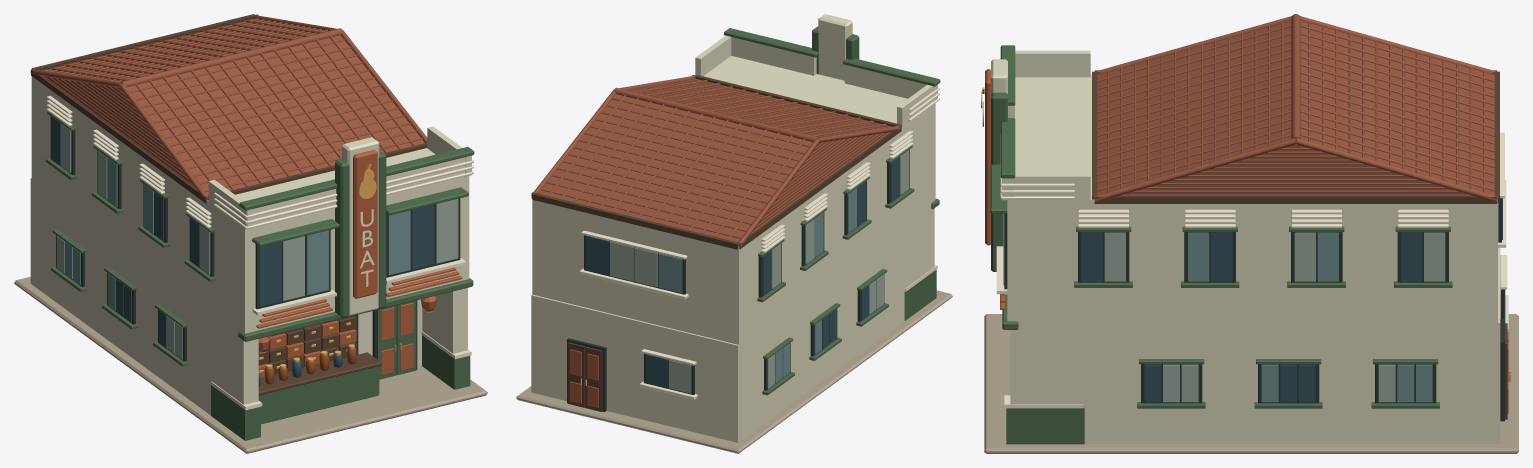
3 views of the same model, side by side, from view 1: azimuth 30°, elevation 25°; view 2: azimuth 150°, elevation 25°; view 3: azimuth 270°, elevation 25° (orthographic). The views are drawn at different scales.
Visible parts, largest first — view 1: Street and dispensary rooms, Roof covering, Streamline plaster bands, Aluminium ribbon casements, Herbal drawer bank, Casements and sills, Central blade sign, Eave fascia, Entrance joinery; view 2: Street and dispensary rooms, Roof covering, Casements and sills, Streamline plaster bands, Eave fascia, Entrance joinery, Central blade sign; view 3: Street and dispensary rooms, Roof covering, Casements and sills, Streamline plaster bands, Eave fascia, Central blade sign, Entrance joinery, Aluminium ribbon casements.
Boxes of the visible parts, left/top/right/bottom form: Street and dispensary rooms: left=14, top=76, right=487, bottom=453; Roof covering: left=30, top=15, right=427, bottom=201; Streamline plaster bands: left=46, top=95, right=474, bottom=328; Aluminium ribbon casements: left=252, top=198, right=466, bottom=315; Herbal drawer bank: left=258, top=296, right=436, bottom=424; Casements and sills: left=45, top=111, right=215, bottom=366; Central blade sign: left=335, top=137, right=386, bottom=317; Eave fascia: left=31, top=14, right=427, bottom=203; Entrance joinery: left=372, top=300, right=417, bottom=379; Street and dispensary rooms: left=516, top=35, right=952, bottom=453; Roof covering: left=531, top=75, right=901, bottom=246; Casements and sills: left=579, top=145, right=914, bottom=399; Streamline plaster bands: left=724, top=28, right=940, bottom=252; Eave fascia: left=531, top=74, right=901, bottom=249; Entrance joinery: left=567, top=338, right=606, bottom=411; Central blade sign: left=812, top=14, right=859, bottom=80; Street and dispensary rooms: left=984, top=50, right=1518, bottom=453; Roof covering: left=1094, top=14, right=1498, bottom=201; Casements and sills: left=1074, top=132, right=1508, bottom=408; Streamline plaster bands: left=990, top=45, right=1448, bottom=309; Eave fascia: left=1092, top=70, right=1499, bottom=203; Central blade sign: left=981, top=59, right=1007, bottom=271; Entrance joinery: left=1500, top=319, right=1511, bottom=421; Aluminium ribbon casements: left=996, top=213, right=1007, bottom=294.
Bounding box in the file's own units: 8.25 × 9.04 × 13.78.
